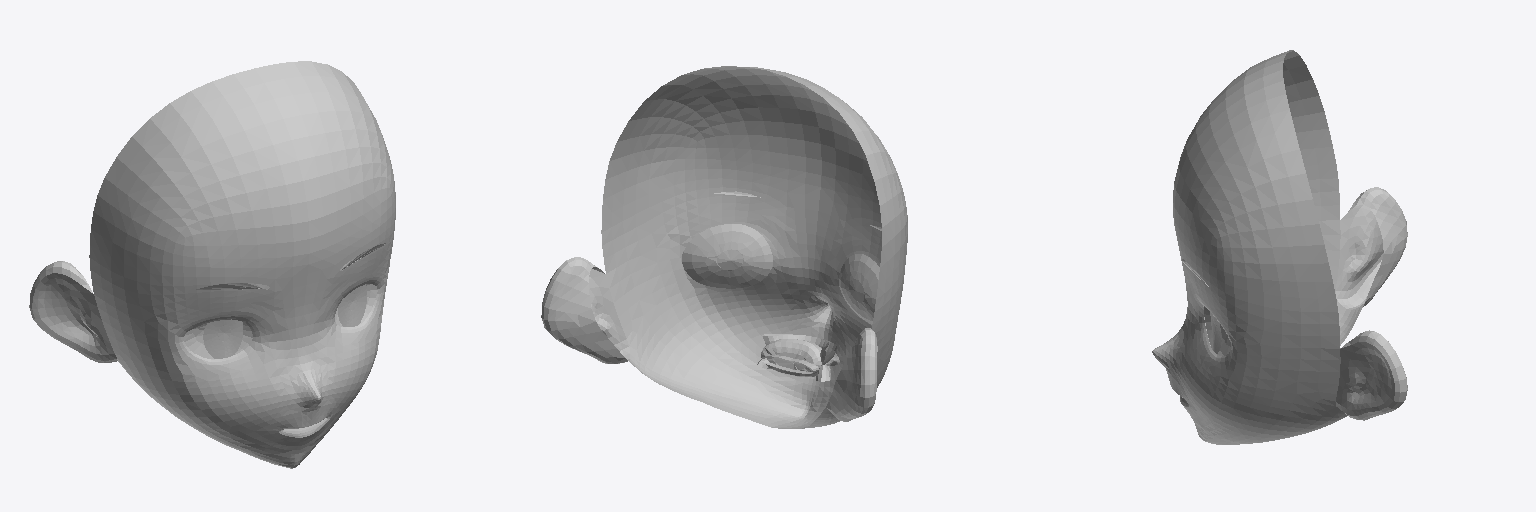
File: mouthDimpleLeft.obj
3 renders of one model, left to right at view 1: azimuth 30°, elevation 25°; view 2: azimuth 150°, elevation 25°; view 3: azimuth 270°, elevation 25°, orthographic.
Visible parts, largest first — view 1: Face; view 2: Face; view 3: Face.
Part boxes in pixels (left/top/right/bottom): Face: left=29, top=61, right=395, bottom=468; Face: left=541, top=66, right=907, bottom=428; Face: left=1152, top=50, right=1407, bottom=444.
Size of the model in its own units: 0.2176 by 0.2333 by 0.1449.